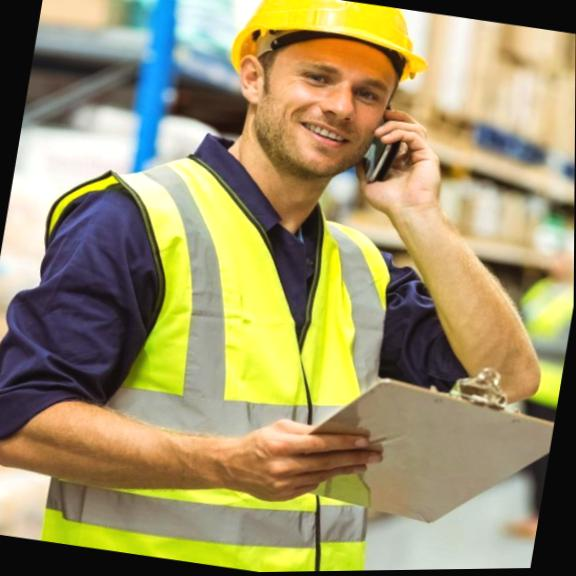safety_vest: (0, 147, 428, 576)
